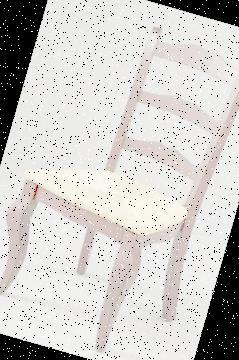Silla: (0, 2, 238, 359)
